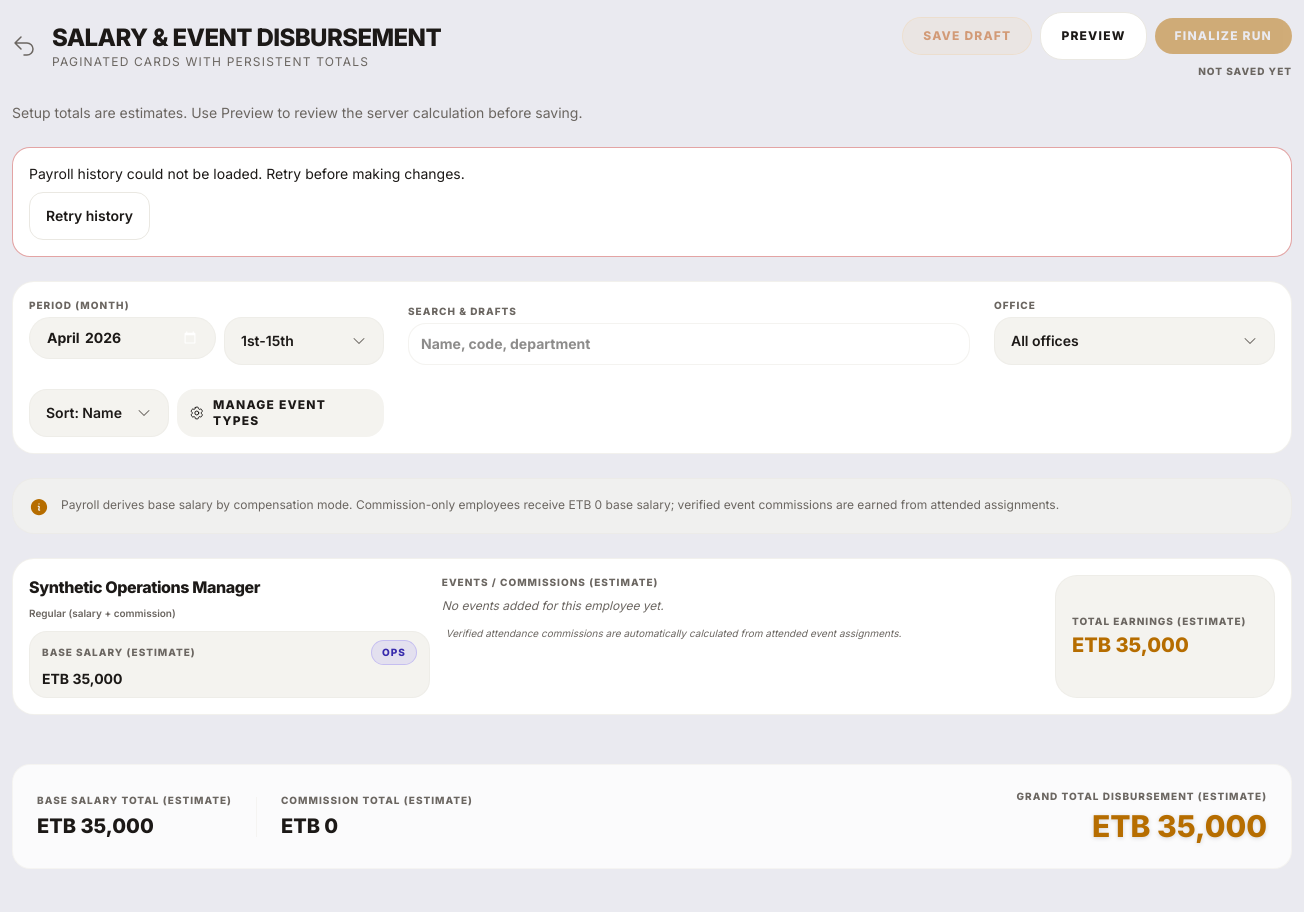
Test: run payroll recovery › requires a successful history read rather than assuming a failed lookup means no existing run
The image size is (1304, 912).
Expected: the message shows "Payroll history could not be loaded", [29,165,465,182]
Expected: the button "Save Draft" is disabled, [902,17,1032,55]
Click the button "Retry history".
click(90, 216)  # box [29,192,150,240]
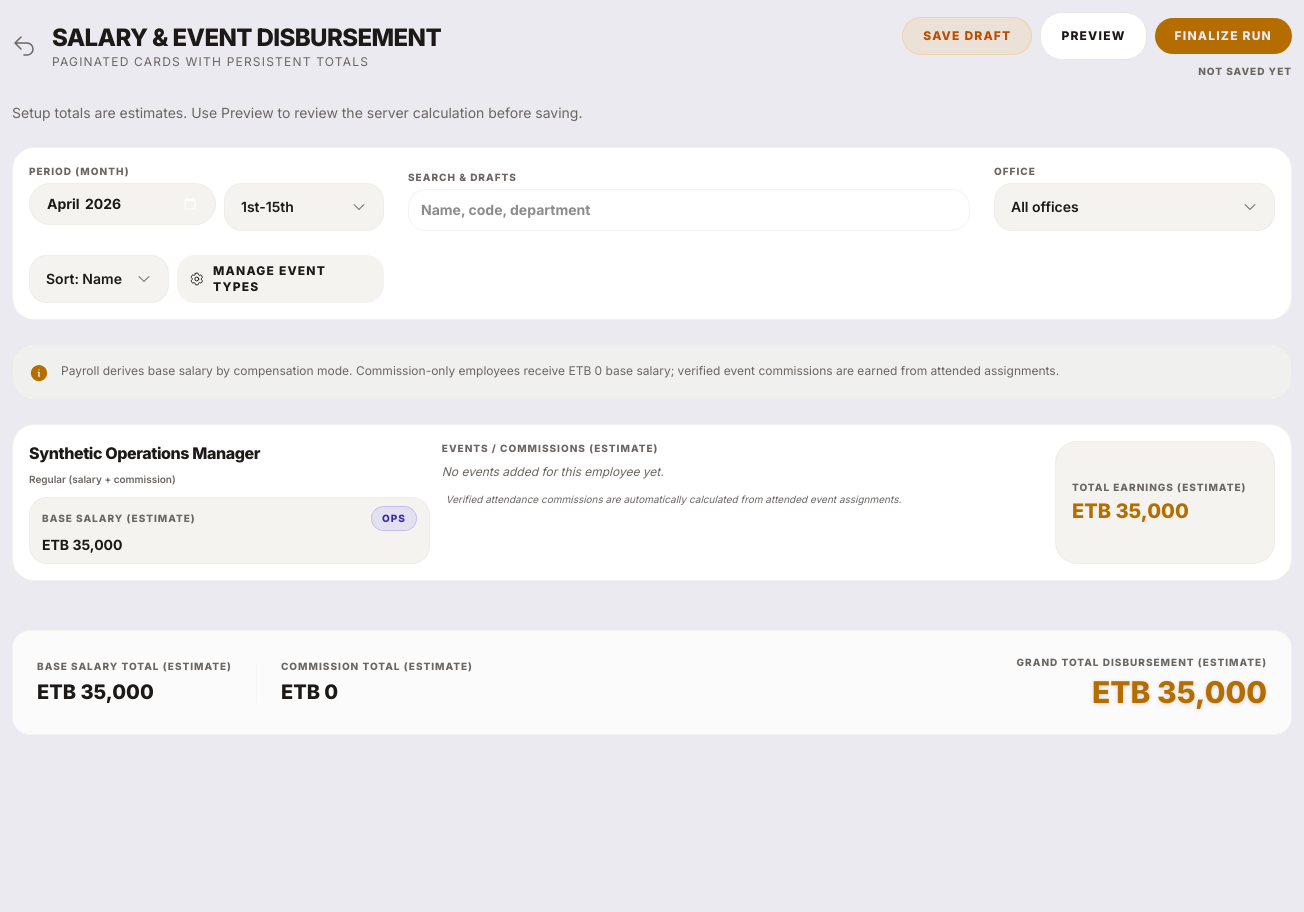
Result: the button "Save Draft" is enabled at [902,17,1032,55]
